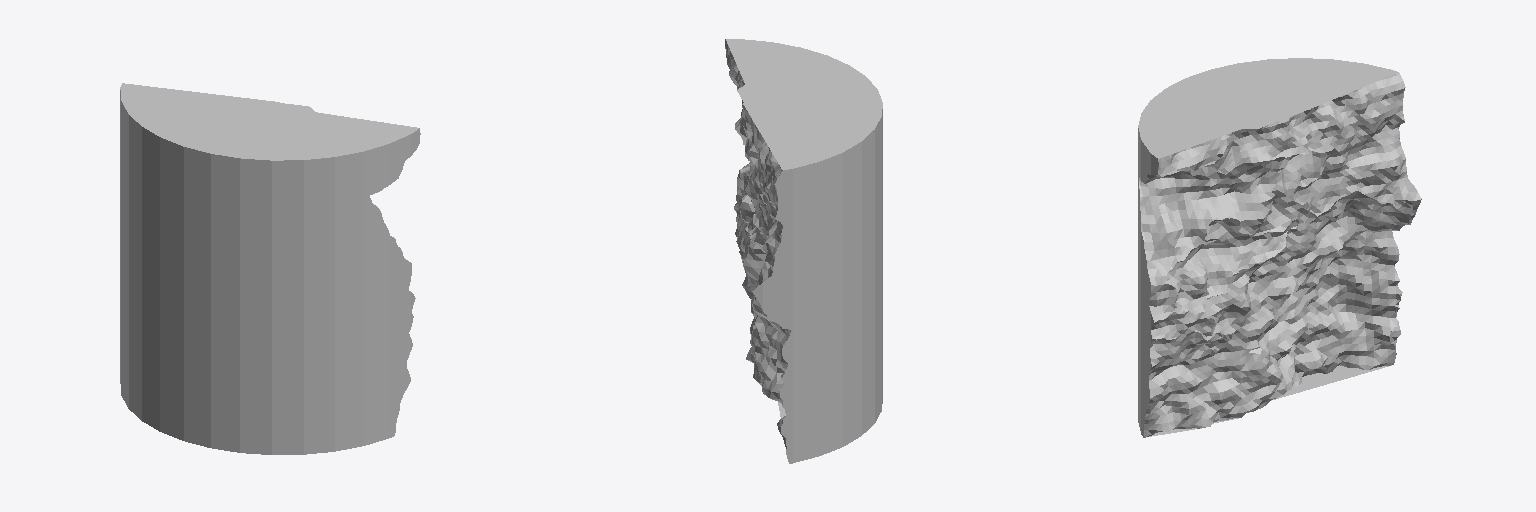
Rendered from cylinder_6_seed_3_shard.001.obj.
The picture shows the model from 3 angles: view 1: azimuth 30°, elevation 25°; view 2: azimuth 150°, elevation 25°; view 3: azimuth 270°, elevation 25°; orthographic projection.
Visible parts, largest first — view 1: Cylinder_shard.001_Cylinder_shard.013; view 2: Cylinder_shard.001_Cylinder_shard.013; view 3: Cylinder_shard.001_Cylinder_shard.013.
Boxes of the visible parts, box(x1,y1,x2,y2) form: Cylinder_shard.001_Cylinder_shard.013: box(120, 83, 420, 454); Cylinder_shard.001_Cylinder_shard.013: box(725, 39, 882, 463); Cylinder_shard.001_Cylinder_shard.013: box(1138, 58, 1421, 437).
Bounding box in the file's own units: 1.48 × 2 × 1.75.